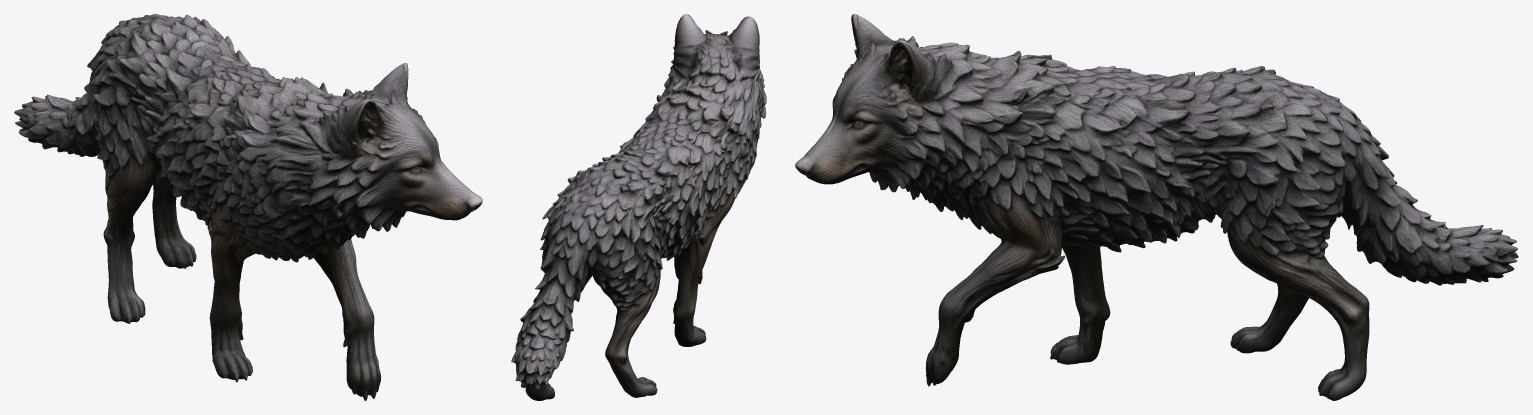
The model's file is Meshy_AI_Dusk_Howler_0606144929_image-to-3d-texture-compressed.glb.
3 renders of one model, left to right at view 1: azimuth 30°, elevation 25°; view 2: azimuth 150°, elevation 25°; view 3: azimuth 270°, elevation 25°, orthographic. The views are drawn at different scales.
Visible parts, largest first — view 1: Mesh_0001; view 2: Mesh_0001; view 3: Mesh_0001.
Boxes of the visible parts, bbox=[...] form: Mesh_0001: bbox=[14, 14, 482, 400]; Mesh_0001: bbox=[511, 14, 766, 400]; Mesh_0001: bbox=[795, 14, 1518, 400].
Bounding box in the file's own units: 0.0581 × 0.12 × 0.2161.
1 material, 1 textured.
